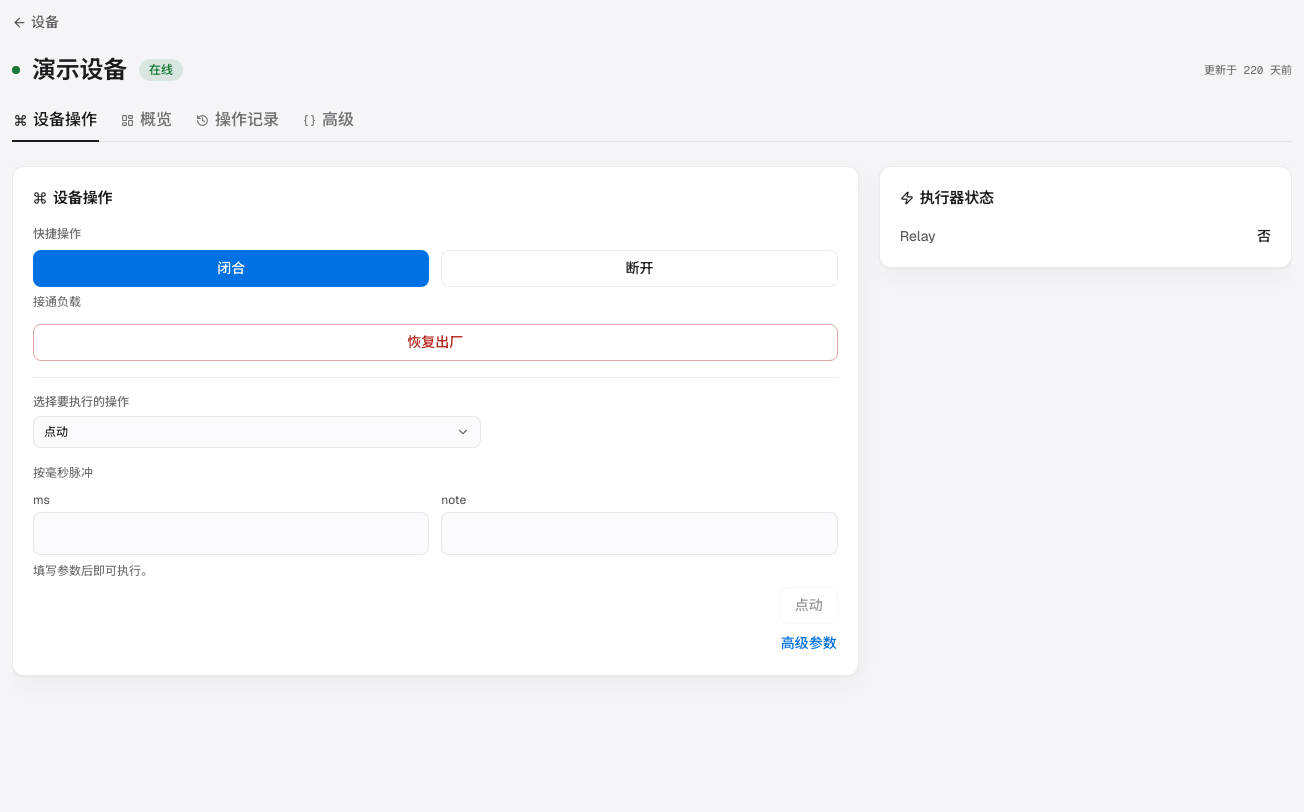
Scenario: 设备分区深链接 › 点击概览会显式进入概览，不被默认设备操作弹回
This screenshot has width=1304, height=812.
Expected: the heading "演示设备" is shown, [32,52,127,88]
What coordinates should you click on to do the following:
click the tab "概览"
I would click on:
 (146, 125)
Its box is [119,108,174,142].
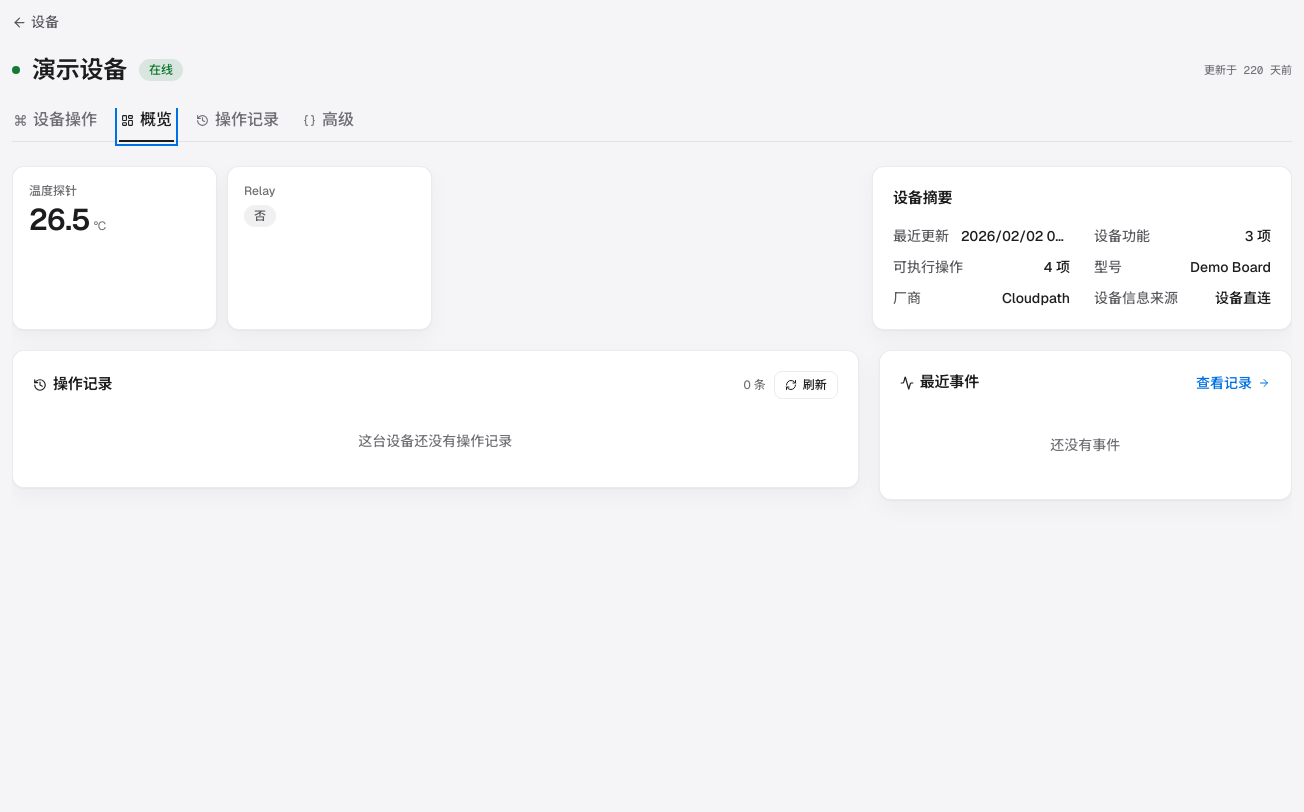
Now the heading "设备摘要" is shown, box [893,187,952,210]
